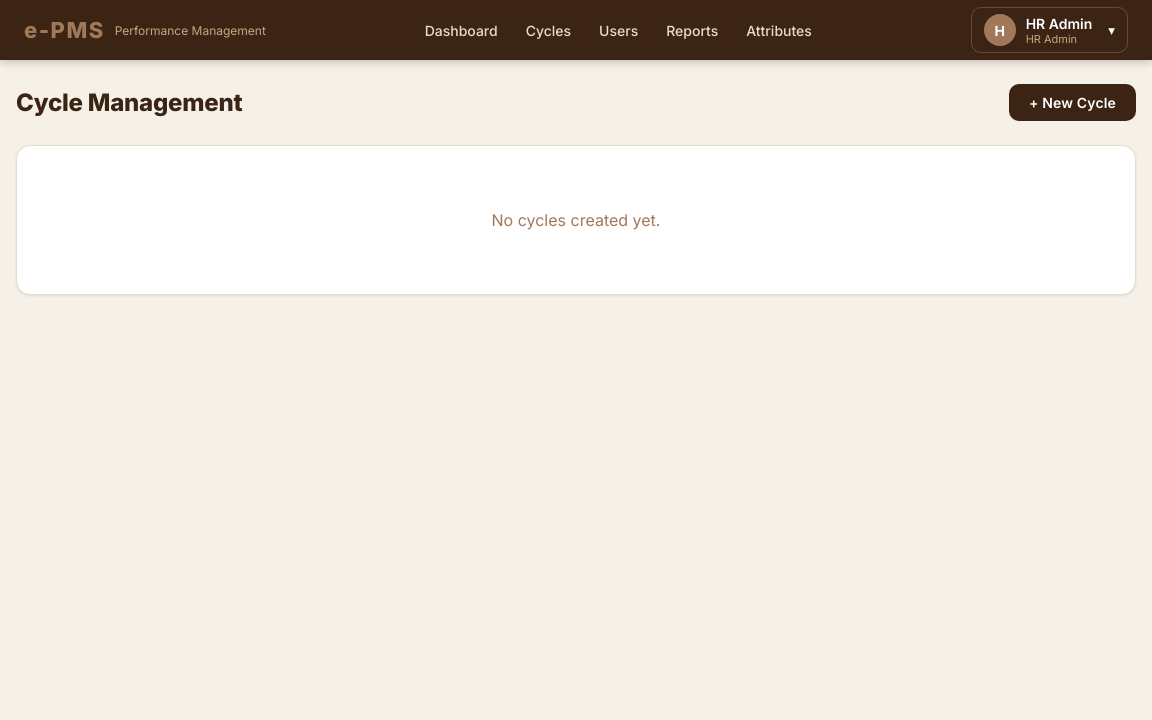
Test: Cycle Management › opens create form when New Cycle is clicked
The width and height of the screenshot is (1152, 720).
Click the button "+ New Cycle" at (1073, 102), box 1009,84 -> 1136,121
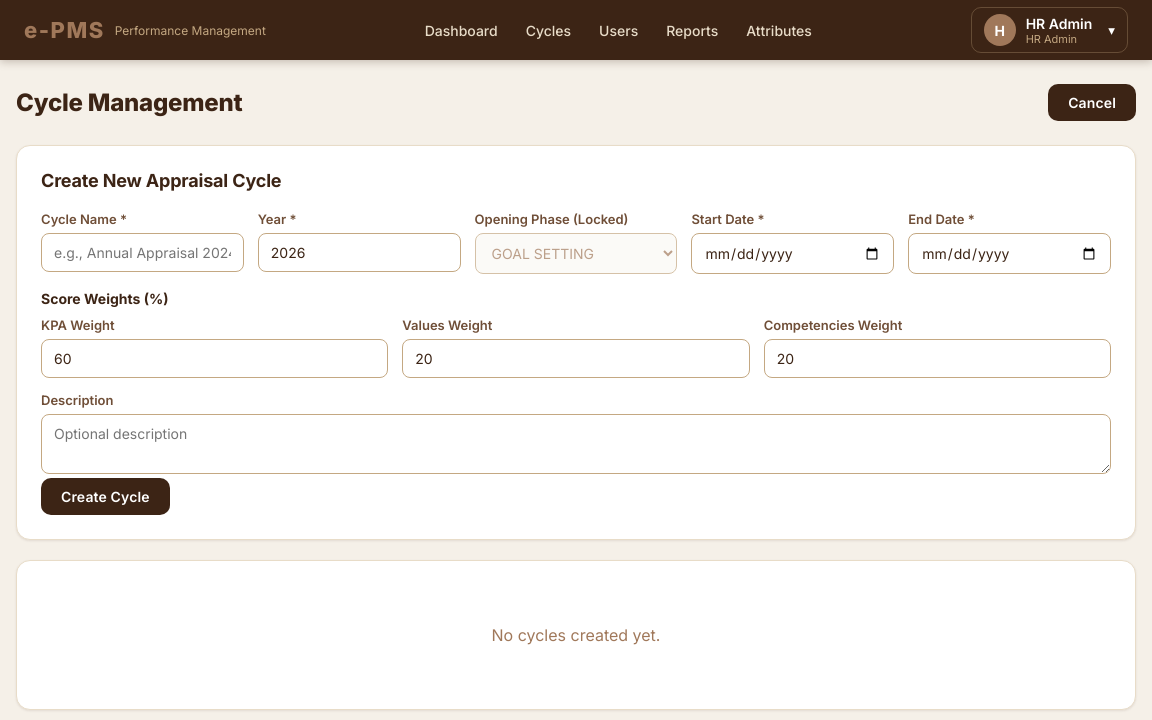
Now the heading "Create New Appraisal Cycle" is shown, box 41,170 -> 281,191
